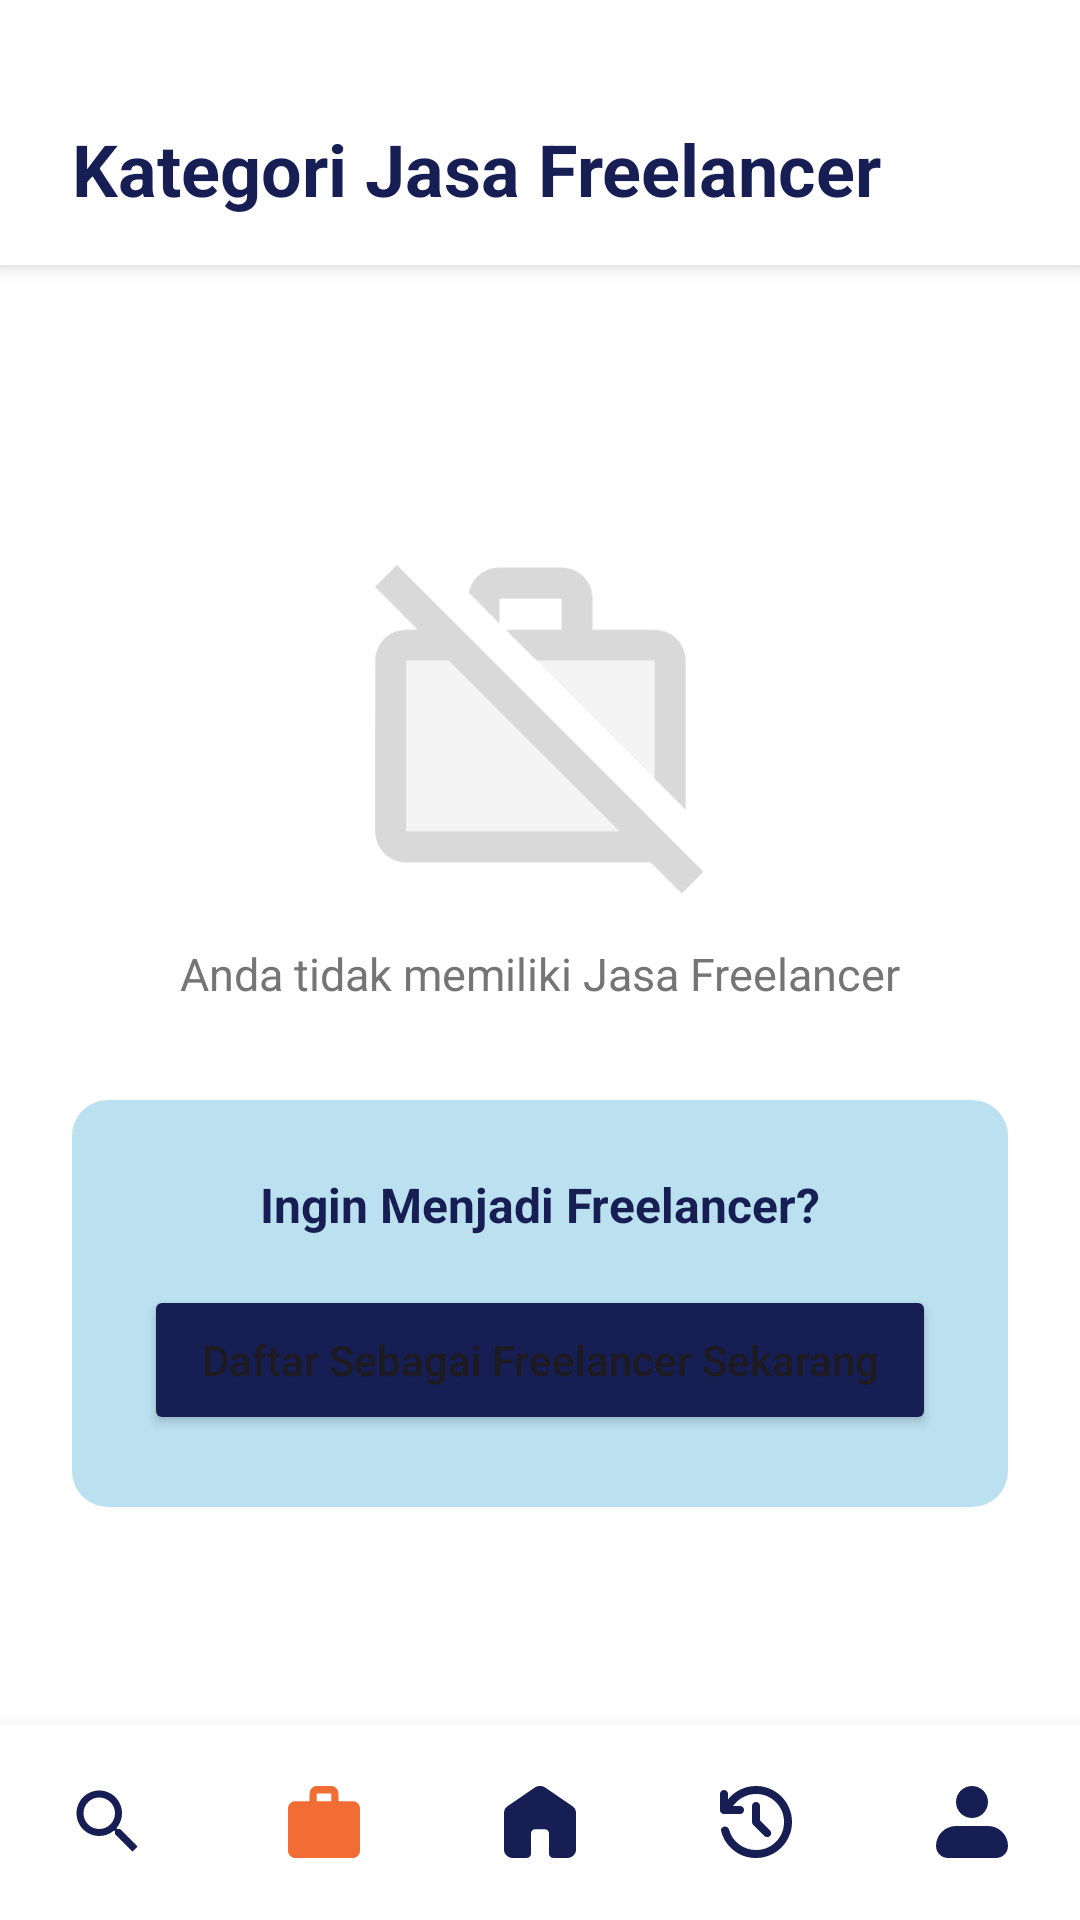

Icons on this 1080w x 1920h Android screen, each with the point to tap as point (x, y):
bag: point (324, 1822)
history: point (756, 1822)
home: point (540, 1822)
profilbtn: point (972, 1822)
search: point (107, 1821)
